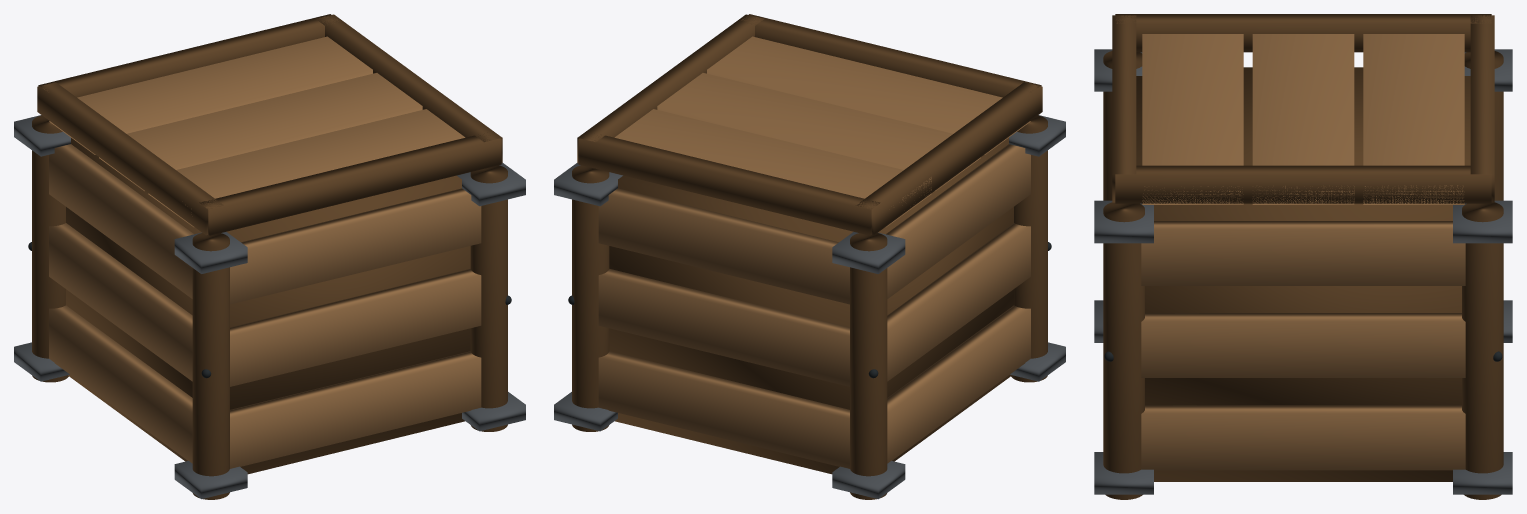
File: 3D模型 props_crate.glb
3 renders of one model, left to right at view 1: azimuth 30°, elevation 25°; view 2: azimuth 150°, elevation 25°; view 3: azimuth 270°, elevation 25°, orthographic. The views are drawn at different scales.
Visible parts, largest first — view 1: part_liner, part_slat_x1_1, part_slat_x0_1, part_slat_x2_1, part_lid_plank_1, part_lid_plank_2, part_lid_edge_1, part_lid_plank_0, part_slat_y1_1, part_slat_y0_1, part_slat_y2_1, part_post_3 (+11 smaller); view 2: part_liner, part_slat_x1_0, part_slat_x0_0, part_slat_x2_0, part_lid_plank_1, part_lid_plank_0, part_lid_edge_0, part_lid_plank_2, part_slat_y1_1, part_slat_y0_1, part_slat_y2_1, part_post_1 (+11 smaller); view 3: part_liner, part_slat_y0_0, part_slat_y1_0, part_slat_y2_0, part_lid_plank_2, part_lid_edge_2, part_lid_plank_1, part_lid_plank_0, part_post_0, part_post_2, part_lid_edge_3, part_lid_edge_0 (+9 smaller).
Part boxes in pixels (x1,y1,x2,y2): part_liner: (66,138,470,474); part_slat_x1_1: (230,269,481,386); part_slat_x0_1: (230,351,481,468); part_slat_x2_1: (230,188,481,304); part_lid_plank_1: (99,73,422,191); part_lid_plank_2: (49,36,372,154); part_lid_edge_1: (199,135,501,235); part_lid_plank_0: (148,109,465,227); part_slat_y1_1: (49,223,192,381); part_slat_y0_1: (49,305,192,463); part_slat_y2_1: (49,144,193,298); part_post_3: (192,233,229,499); part_liner: (609,138,1013,474); part_slat_x1_0: (598,269,849,386); part_slat_x0_0: (598,351,849,468); part_slat_x2_0: (598,188,849,304); part_lid_plank_1: (657,73,980,191); part_lid_plank_0: (707,36,1030,154); part_lid_edge_0: (578,135,880,235); part_lid_plank_2: (614,109,931,227); part_slat_y1_1: (887,223,1030,381); part_slat_y0_1: (887,305,1030,463); part_slat_y2_1: (886,144,1030,298); part_post_1: (850,233,887,499); part_liner: (1136,67,1470,481); part_slat_y0_0: (1141,405,1465,470); part_slat_y1_0: (1141,313,1465,377); part_slat_y2_0: (1141,221,1465,285); part_lid_plank_2: (1363,34,1464,204); part_lid_edge_2: (1115,165,1491,203); part_lid_plank_1: (1252,34,1354,204); part_lid_plank_0: (1142,34,1243,204); part_post_0: (1462,202,1503,499); part_post_2: (1103,202,1144,499); part_lid_edge_3: (1115,14,1491,52); part_lid_edge_0: (1470,15,1494,202).
Size of the model in its own units: 0.7 by 0.592 by 0.7.
